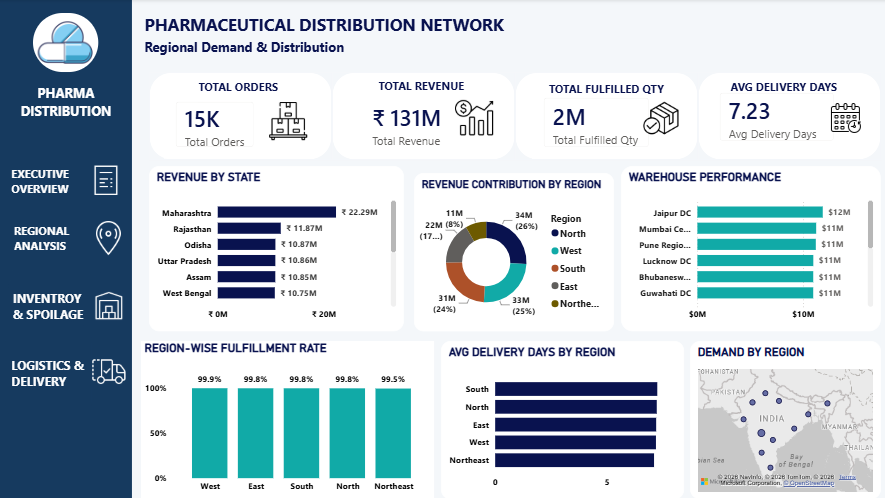

The dashboard page shown, as its layout file describes it:
{"tool":"powerbi","page":{"name":"Regional Demand & Distribution","canvas":[1280,720],"ordinal":1},"visuals":[{"type":"shape","box":[0,0,190.1,720],"z":0},{"type":"image","box":[47.5,20.2,93.6,85],"z":1000},{"type":"textbox","box":[7.2,118.1,175.7,87.8],"z":2000},{"type":"textbox","box":[203,14.4,816.5,49],"z":3000},{"type":"textbox","box":[203,51.8,816.5,41.8],"z":4000},{"type":"shape","box":[214.6,105.1,263.5,126.7],"z":5000},{"type":"shape","box":[478.1,105.1,263.5,126.7],"z":6000},{"type":"shape","box":[741.6,105.1,263.5,126.7],"z":7000},{"type":"shape","box":[1005.1,105.1,263.5,126.7],"z":8000},{"type":"cardVisual","title":"TOTAL ORDERS","fields":{"Data":["Performance_Metrics.Total Orders"]},"box":[236.2,131,146.9,99.4],"z":9000},{"type":"cardVisual","fields":{"Data":["Performance_Metrics.Total Revenue"]},"box":[506.9,132.5,175.7,97.9],"z":10000},{"type":"textbox","box":[280.8,110.9,132.5,43.2],"z":11000},{"type":"textbox","box":[540,109.4,142.6,44.6],"z":12000},{"type":"cardVisual","fields":{"Data":["Performance_Metrics.Total Fulfilled Qty"]},"box":[766.1,125.3,185.8,105.1],"z":13000},{"type":"textbox","box":[780.5,113.8,185.8,37.4],"z":14000},{"type":"cardVisual","fields":{"Data":["Performance_Metrics.Avg Delivery Days"]},"box":[1019.5,118.1,198.7,103.7],"z":15000},{"type":"textbox","box":[1046.9,110.9,171.4,37.4],"z":16000},{"type":"image","box":[655.2,135.4,54.7,70.6],"z":17000},{"type":"image","box":[1185.1,148.3,66.2,46.1],"z":18000},{"type":"image","box":[384.5,148.3,60.5,54.7],"z":19000},{"type":"image","box":[918.7,132.5,66.2,77.8],"z":20000},{"type":"clusteredBarChart","title":"REVENUE BY STATE","fields":{"Category":["Pharma_Distribution.State"],"Y":["Performance_Metrics.Total Revenue"]},"box":[214.6,240.5,367.2,237.6],"z":21000},{"type":"map","title":"DEMAND BY  REGION","fields":{"Category":["Pharma_Distribution.State"],"Size":["Performance_Metrics.Total Order Qty"]},"box":[993.6,492.5,275,227.5],"z":22000},{"type":"clusteredBarChart","title":"WAREHOUSE PERFORMANCE","fields":{"Category":["Pharma_Distribution.Warehouse_Name"],"Y":["Performance_Metrics.Total Revenue"]},"box":[894.2,240.5,374.4,237.6],"z":23000},{"type":"clusteredColumnChart","title":"REGION-WISE FULFILLMENT RATE","fields":{"Category":["Pharma_Distribution.Region"],"Y":["Performance_Metrics.Fulfillment Rate"]},"box":[203,492.5,421.9,227.5],"z":24000},{"type":"clusteredBarChart","title":"AVG DELIVERY DAYS BY REGION","fields":{"Category":["Pharma_Distribution.Region"],"Y":["Performance_Metrics.Avg Delivery Days"]},"box":[635,492.5,349.9,227.5],"z":25000},{"type":"donutChart","title":"REVENUE CONTRIBUTION BY REGION","fields":{"Category":["Pharma_Distribution.Region"],"Y":["Performance_Metrics.Total Revenue"]},"box":[596.2,250.6,288,227.5],"z":26000},{"type":"shape","box":[11.5,229,121,66.2],"z":26002},{"type":"shape","box":[11.5,285.1,141.1,118.1],"z":26003},{"type":"shape","box":[11.5,393.1,129.6,97.9],"z":26004},{"type":"shape","box":[7.2,463.7,125.3,148.3],"z":26005},{"type":"image","box":[129.6,229,46.1,63.4],"z":26006},{"type":"image","box":[129.6,315.4,53.3,56.2],"z":26007},{"type":"image","box":[123.8,419,66.2,44.6],"z":26008},{"type":"image","box":[123.8,511.2,66.2,47.5],"z":26009}]}

Visuals, with their boxes in screenshot pixels (x1, y1, x2, y2), scaled from the page's 1280x720 canvas onto the 885x498 screenshot:
shape: BBox(0, 0, 131, 497)
image: BBox(33, 14, 98, 73)
textbox: BBox(5, 82, 126, 142)
textbox: BBox(140, 10, 705, 44)
textbox: BBox(140, 36, 705, 65)
shape: BBox(148, 73, 331, 160)
shape: BBox(331, 73, 513, 160)
shape: BBox(513, 73, 695, 160)
shape: BBox(695, 73, 877, 160)
"TOTAL ORDERS" cardVisual: BBox(163, 91, 265, 159)
cardVisual - Performance_Metrics.Total Revenue: BBox(350, 92, 472, 159)
textbox: BBox(194, 77, 286, 107)
textbox: BBox(373, 76, 472, 107)
cardVisual - Performance_Metrics.Total Fulfilled Qty: BBox(530, 87, 658, 159)
textbox: BBox(540, 79, 668, 105)
cardVisual - Performance_Metrics.Avg Delivery Days: BBox(705, 82, 842, 153)
textbox: BBox(724, 77, 842, 103)
image: BBox(453, 94, 491, 142)
image: BBox(819, 103, 865, 134)
image: BBox(266, 103, 308, 140)
image: BBox(635, 92, 681, 145)
"REVENUE BY STATE" clusteredBarChart: BBox(148, 166, 402, 331)
"DEMAND BY  REGION" map: BBox(687, 341, 877, 497)
"WAREHOUSE PERFORMANCE" clusteredBarChart: BBox(618, 166, 877, 331)
"REGION-WISE FULFILLMENT RATE" clusteredColumnChart: BBox(140, 341, 432, 497)
"AVG DELIVERY DAYS BY REGION" clusteredBarChart: BBox(439, 341, 681, 497)
"REVENUE CONTRIBUTION BY REGION" donutChart: BBox(412, 173, 611, 331)
shape: BBox(8, 158, 92, 204)
shape: BBox(8, 197, 106, 279)
shape: BBox(8, 272, 98, 340)
shape: BBox(5, 321, 92, 423)
image: BBox(90, 158, 121, 202)
image: BBox(90, 218, 126, 257)
image: BBox(86, 290, 131, 321)
image: BBox(86, 354, 131, 386)
